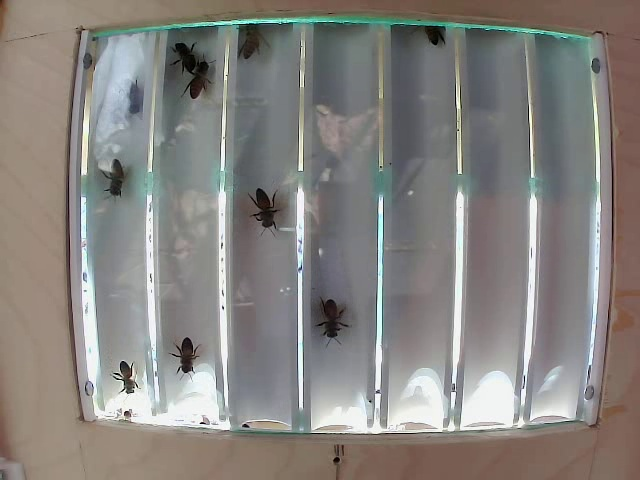bee: (306, 280, 366, 338), (168, 332, 221, 381), (100, 154, 143, 202), (230, 24, 269, 70), (185, 61, 222, 98), (172, 41, 209, 77), (105, 355, 138, 388), (250, 181, 274, 223)
